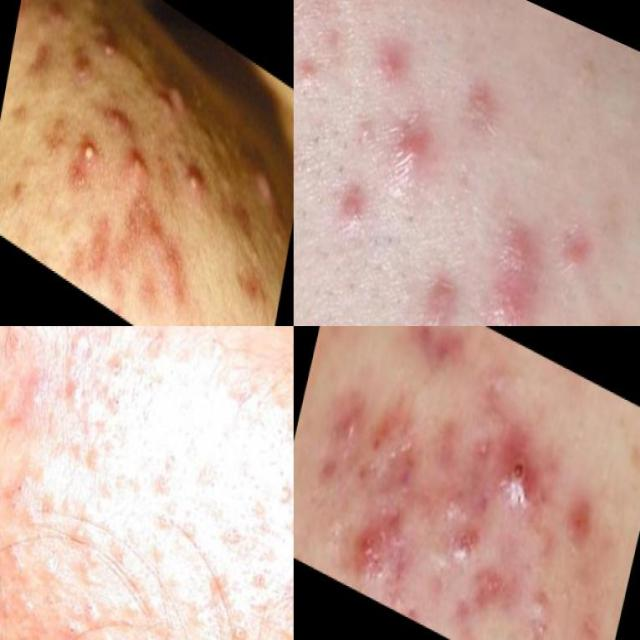acne_scars: (403, 326, 478, 400)
comedone: (110, 512, 156, 565), (111, 580, 152, 634), (204, 508, 241, 562), (260, 460, 294, 518), (72, 587, 107, 634), (151, 491, 184, 539), (7, 580, 42, 625), (0, 466, 31, 515), (246, 561, 281, 603), (150, 444, 182, 489), (75, 438, 107, 482), (98, 338, 128, 384), (107, 460, 139, 502), (222, 601, 256, 640), (58, 375, 90, 416), (174, 512, 206, 553), (62, 514, 92, 552), (142, 540, 172, 574), (100, 386, 128, 421), (109, 621, 156, 640), (60, 612, 84, 640), (142, 560, 145, 562)
cystic: (490, 414, 555, 518), (142, 55, 198, 140), (246, 142, 279, 217)
papule: (371, 97, 436, 175), (340, 503, 400, 584), (544, 205, 600, 286), (402, 257, 465, 326), (364, 4, 413, 92), (327, 172, 369, 248), (323, 394, 364, 459), (176, 150, 211, 214), (14, 375, 51, 425), (451, 520, 484, 576), (69, 48, 92, 92)
pustule: (119, 132, 153, 198), (70, 122, 102, 181), (98, 27, 118, 69)
sebo-crystan-conglo: (470, 206, 555, 326), (584, 281, 637, 326)
